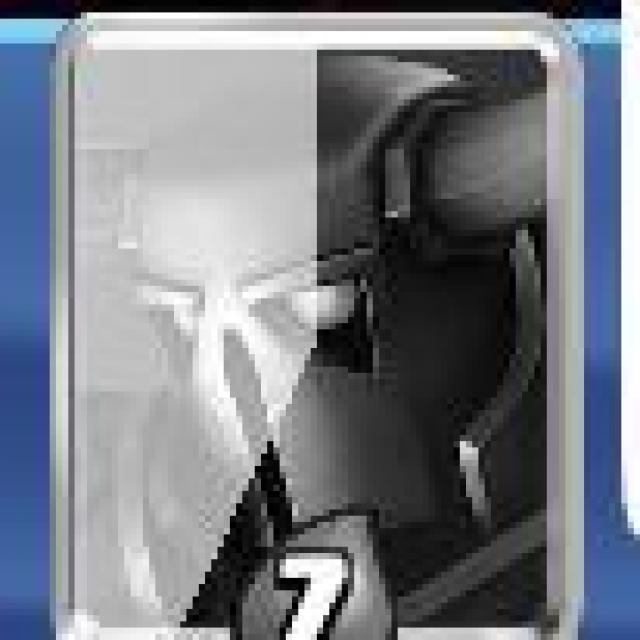Pekka: (56, 11, 576, 640)
